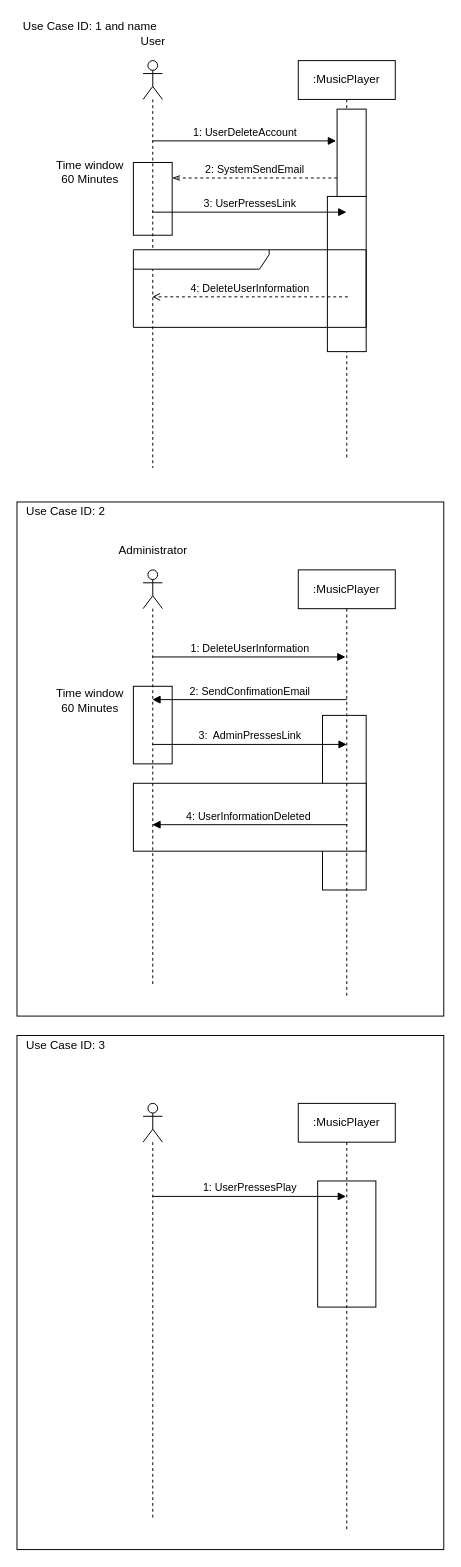
The diagram is 461 pixels wide and 1567 high, and some of its shapes have lost their labels. Here are the shapes that lost their labels. From the top down, the box of each, then its label:
(132, 249, 366, 327): If user clicks valid link
(132, 782, 366, 851): If admin clicks valid link
